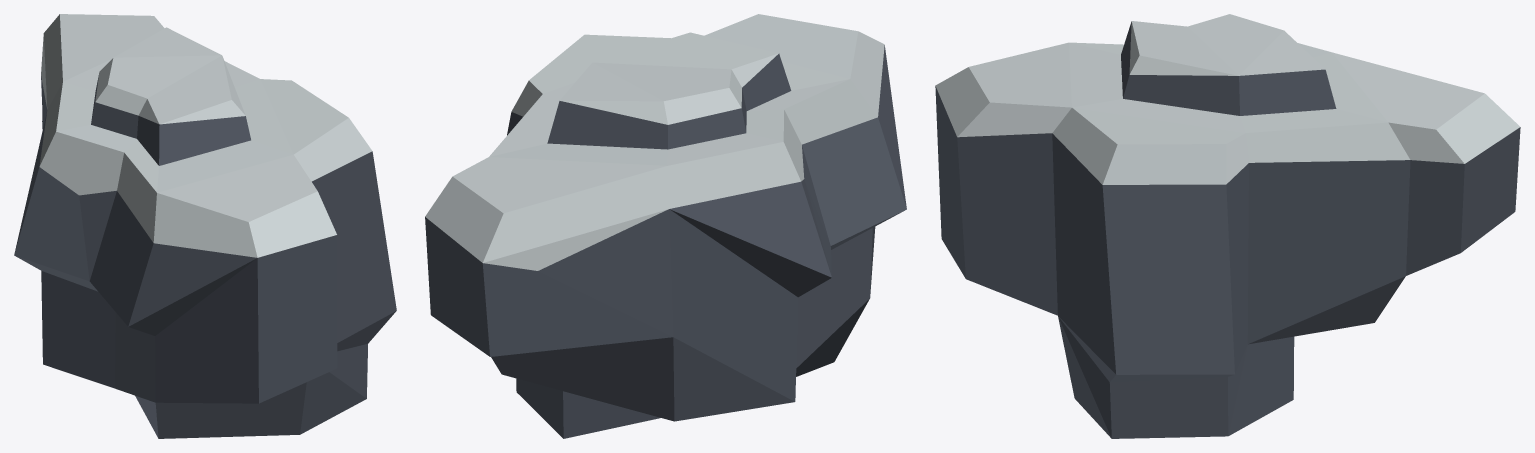
The model's file is SM_Env_Generic_Cliffs_05.glb.
3 views of the same model, side by side, from view 1: azimuth 30°, elevation 25°; view 2: azimuth 150°, elevation 25°; view 3: azimuth 270°, elevation 25° (orthographic). The views are drawn at different scales.
Parts seen in each view (by area): view 1: SM_Env_Generic_Cliffs_05; view 2: SM_Env_Generic_Cliffs_05; view 3: SM_Env_Generic_Cliffs_05.
Boxes of the visible parts, left/top/right/bottom form: SM_Env_Generic_Cliffs_05: left=14, top=14, right=396, bottom=438; SM_Env_Generic_Cliffs_05: left=425, top=14, right=906, bottom=438; SM_Env_Generic_Cliffs_05: left=935, top=14, right=1520, bottom=438.
Bounding box in the file's own units: 0.7801 × 0.7369 × 1.19.
1 material, 1 textured.
